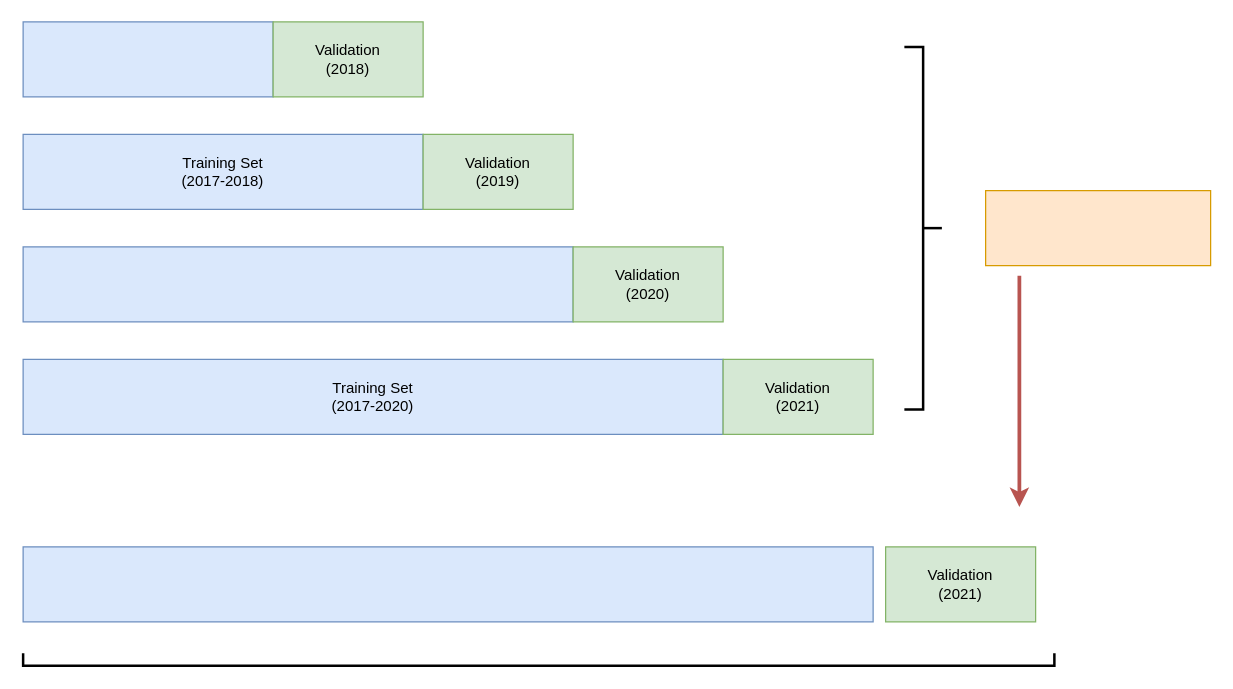
This 1233x689 diagram has some shape labels left out. Each missing label, with the centre of its shape:
Hyperparameter Tuning: (1097,227)
Training Set (2017): (147,59)
Training Set (2017-2019): (297,284)
Training Set (2017-2021): (447,584)
